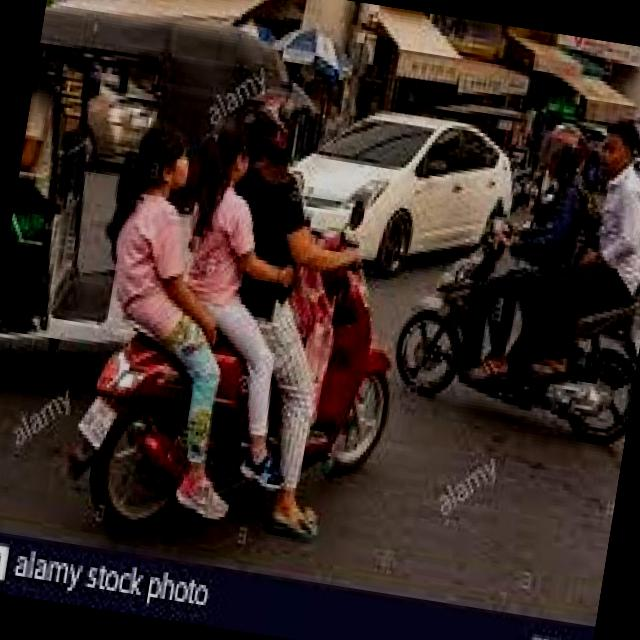motorcycle: (54, 182, 425, 574), (387, 219, 640, 452)
person: (166, 76, 330, 416), (68, 109, 212, 401), (152, 110, 274, 396), (504, 118, 604, 304), (565, 120, 640, 306)
rider_region: (56, 61, 430, 566), (385, 88, 640, 446)
